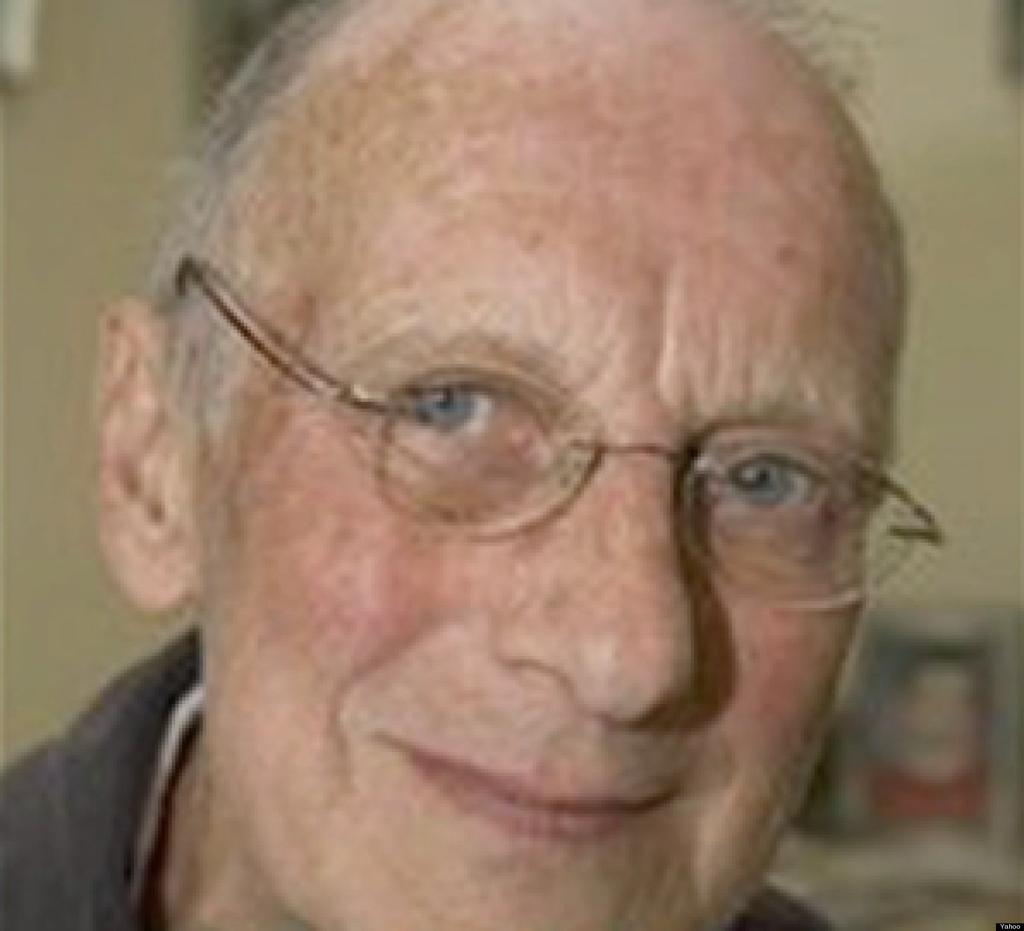face: (208, 48, 900, 928)
